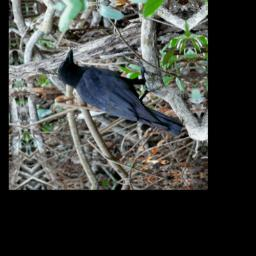Crow: (54, 40, 188, 146)
